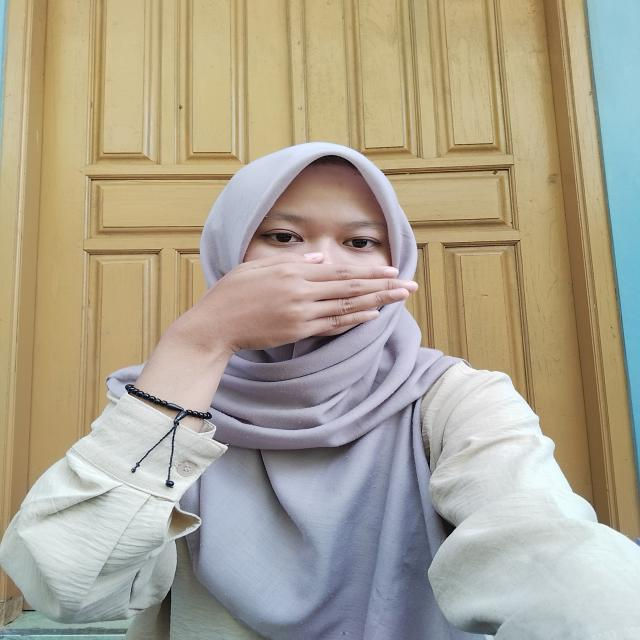buruk: (175, 242, 428, 352)
